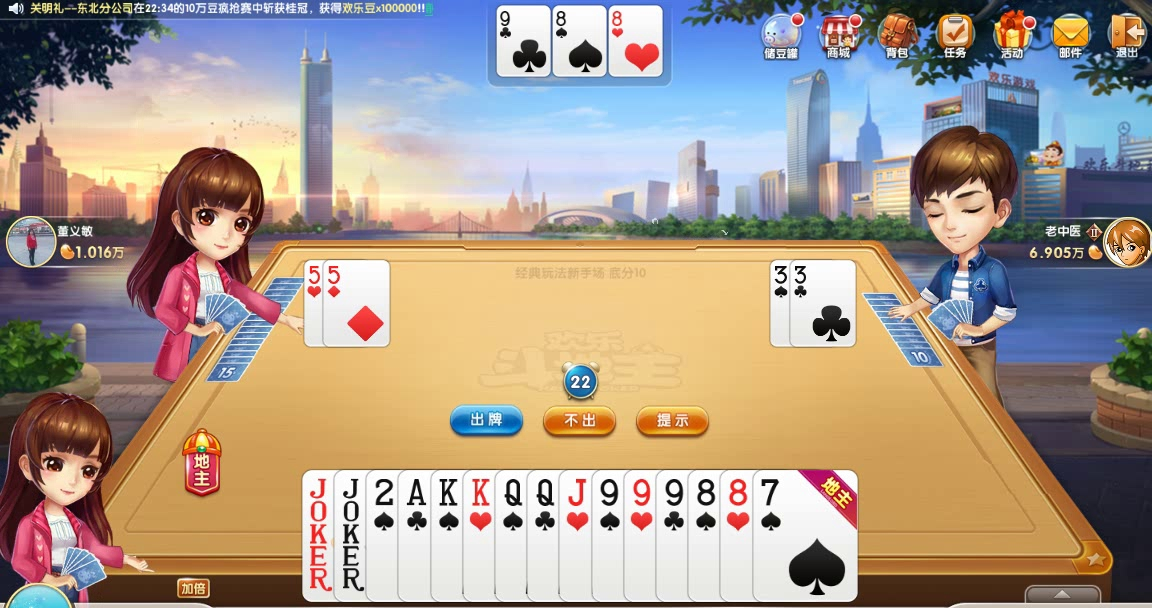11~3: (558, 469, 666, 601)
12~2: (526, 469, 634, 601)
12~4: (492, 469, 600, 601)
13~3: (460, 469, 568, 601)
13~4: (430, 469, 538, 601)
14~2: (395, 469, 503, 601)
15~4: (365, 469, 473, 601)
17~3: (332, 469, 440, 601)
18~4: (302, 469, 410, 601)
3~2: (788, 260, 855, 346)
3~4: (769, 260, 836, 346)
5~1: (322, 260, 390, 348)
5~3: (303, 260, 371, 348)
7~4: (750, 470, 858, 602)
8~3: (718, 468, 826, 600), (606, 5, 662, 76)
8~4: (687, 468, 795, 600), (551, 5, 607, 76)
9~2: (655, 468, 763, 600), (495, 5, 551, 76)
9~3: (623, 468, 731, 600)
9~4: (588, 469, 696, 601)
